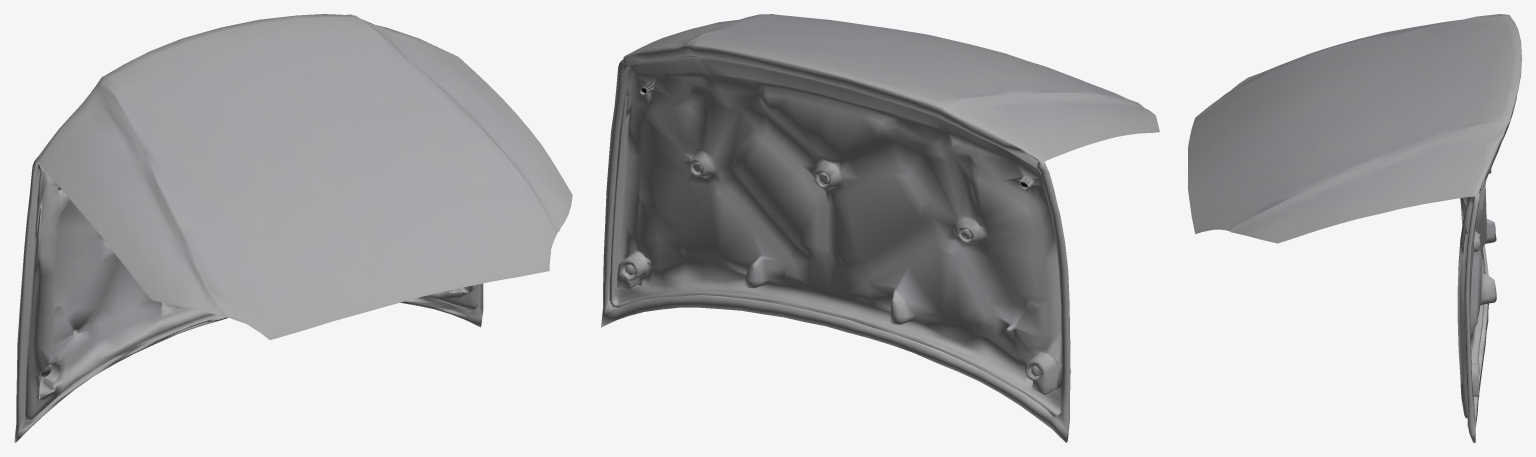
File: original_glb.glb
3 renders of one model, left to right at view 1: azimuth 30°, elevation 25°; view 2: azimuth 150°, elevation 25°; view 3: azimuth 270°, elevation 25°, orthographic. The views are drawn at different scales.
Visible parts, largest first — view 1: hood; view 2: hood; view 3: hood.
Boxes of the visible parts, <box> form: hood: <box>14,14,572,442</box>; hood: <box>601,14,1159,442</box>; hood: <box>1188,14,1521,442</box>.
Bounding box in the file's own units: 0.998 × 0.6934 × 0.7207.
Materials: 1 (1 with a texture image).
